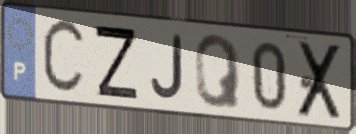0: (248, 40, 290, 114)
C: (40, 15, 89, 100)
J: (148, 32, 186, 102)
Q: (193, 32, 244, 111)
X: (294, 39, 345, 122)
Z: (91, 21, 141, 102)
